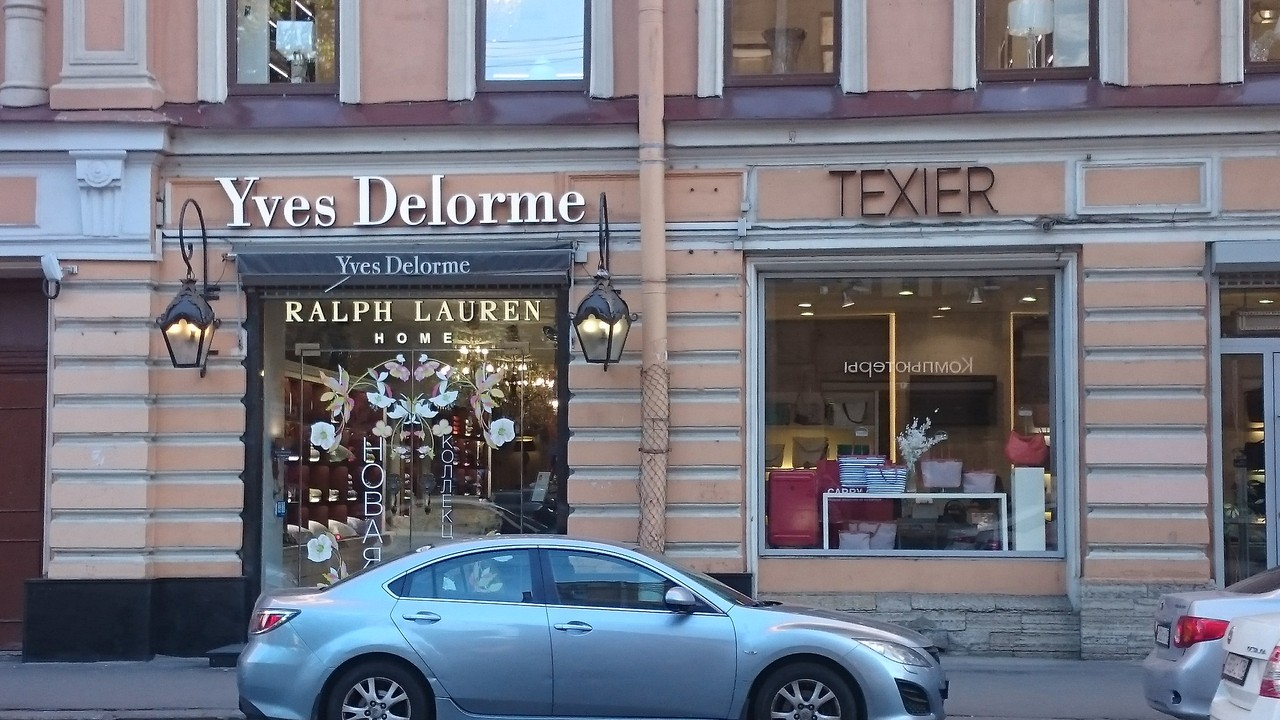signboard: (215, 176, 584, 224), (827, 167, 1001, 219)
window: (758, 268, 1059, 557), (257, 297, 563, 532)
